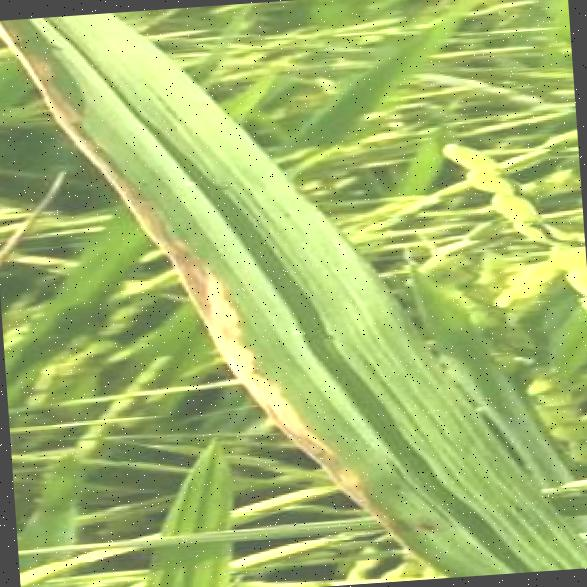Bacteria_Leaf_Blight: (114, 56, 419, 534)
